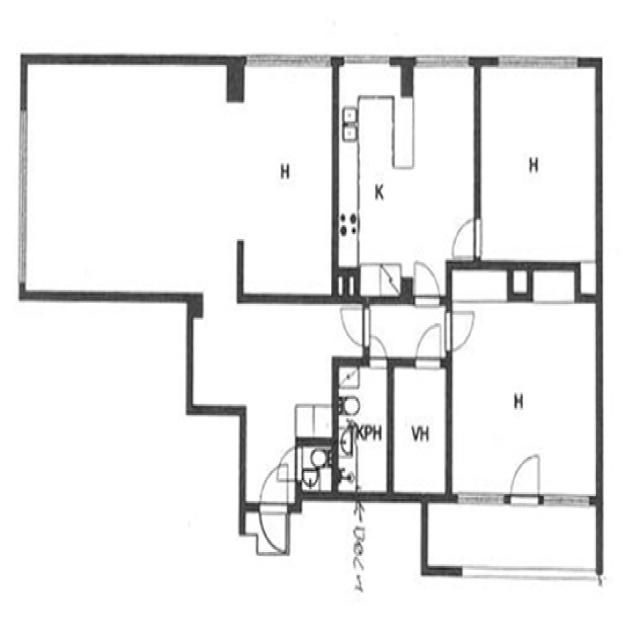door: (256, 463, 292, 557), (415, 314, 473, 366), (505, 445, 546, 508), (406, 251, 444, 310), (449, 212, 485, 264), (336, 301, 372, 352), (411, 319, 446, 370), (444, 303, 477, 354), (278, 444, 303, 480), (367, 331, 388, 366)
window: (12, 104, 35, 288), (491, 43, 584, 77), (411, 44, 474, 74), (337, 46, 399, 73), (240, 52, 328, 70), (453, 486, 508, 514), (538, 488, 597, 512)
zone: (23, 58, 240, 298), (449, 272, 601, 502), (333, 62, 478, 287), (476, 60, 599, 269), (240, 62, 335, 298), (409, 63, 479, 261), (391, 358, 448, 496), (336, 357, 389, 496), (253, 450, 302, 564), (298, 441, 334, 496)
